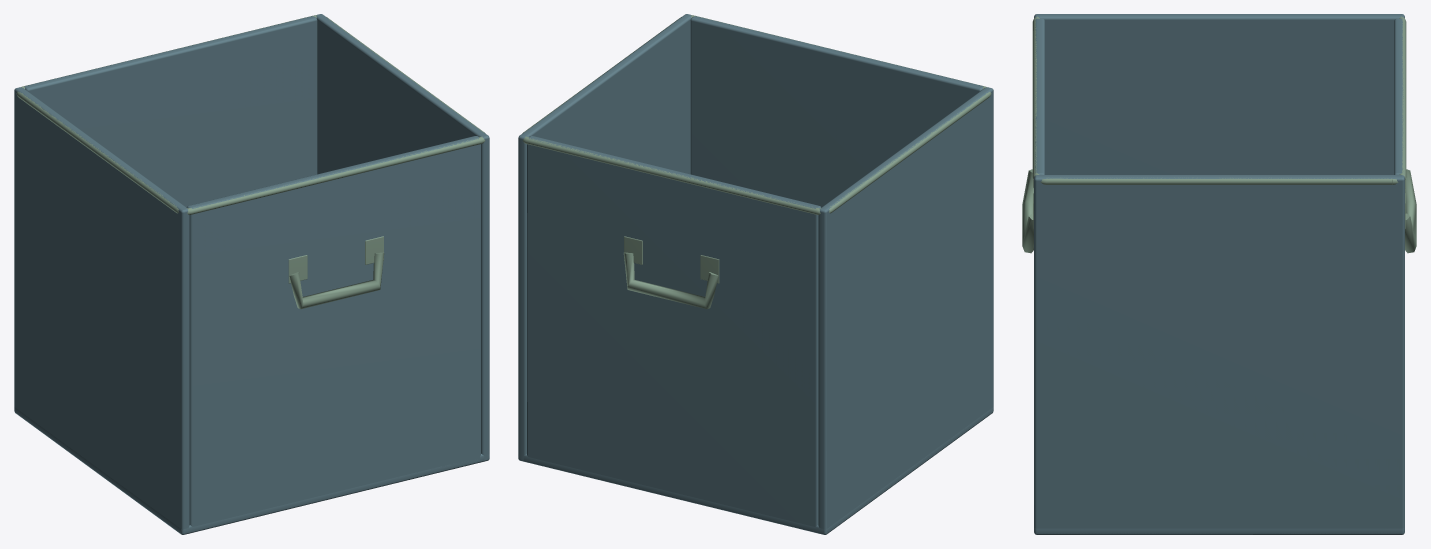
File: fabric-cubby-bin.glb
The picture shows the model from 3 angles, left to right: view 1: azimuth 30°, elevation 25°; view 2: azimuth 150°, elevation 25°; view 3: azimuth 270°, elevation 25°; orthographic projection. The views are drawn at different scales.
Parts seen in each view (by area): view 1: catalog_surface_RealismUV; view 2: catalog_surface_RealismUV; view 3: catalog_surface_RealismUV.
Part boxes in pixels (x1,y1,x2,y2): catalog_surface_RealismUV: [14, 14, 489, 534]; catalog_surface_RealismUV: [518, 14, 993, 534]; catalog_surface_RealismUV: [1022, 14, 1416, 534].
Bounding box in the file's own units: 0.29 × 0.29 × 0.29.
